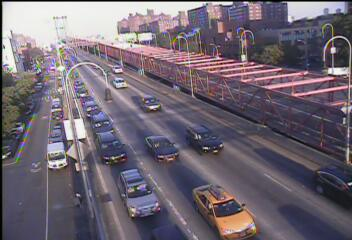neg: (32, 58, 42, 71)
